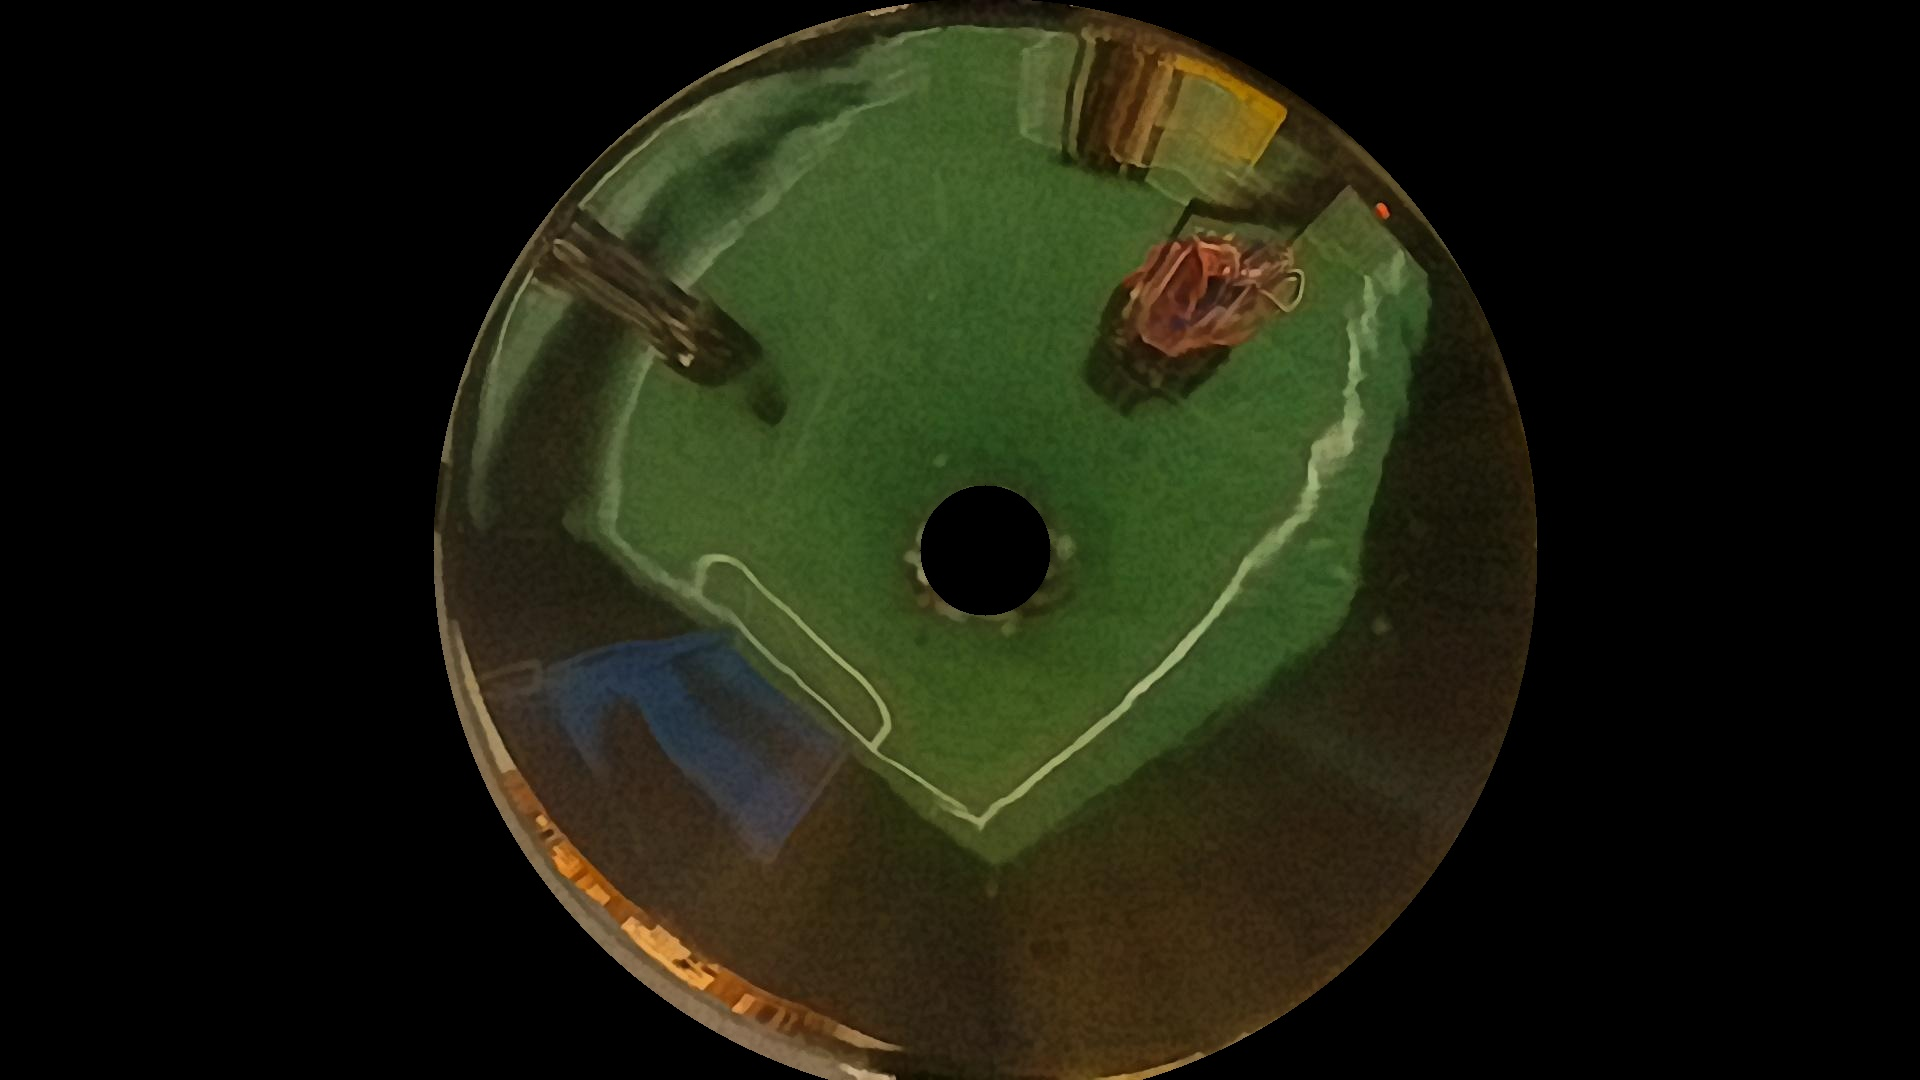ball: (1375, 202, 1390, 220)
blue-goal: (527, 628, 857, 873)
robots: (543, 216, 752, 384), (1091, 228, 1269, 411), (1076, 28, 1164, 178)
yellow-goal: (1166, 53, 1292, 175)
